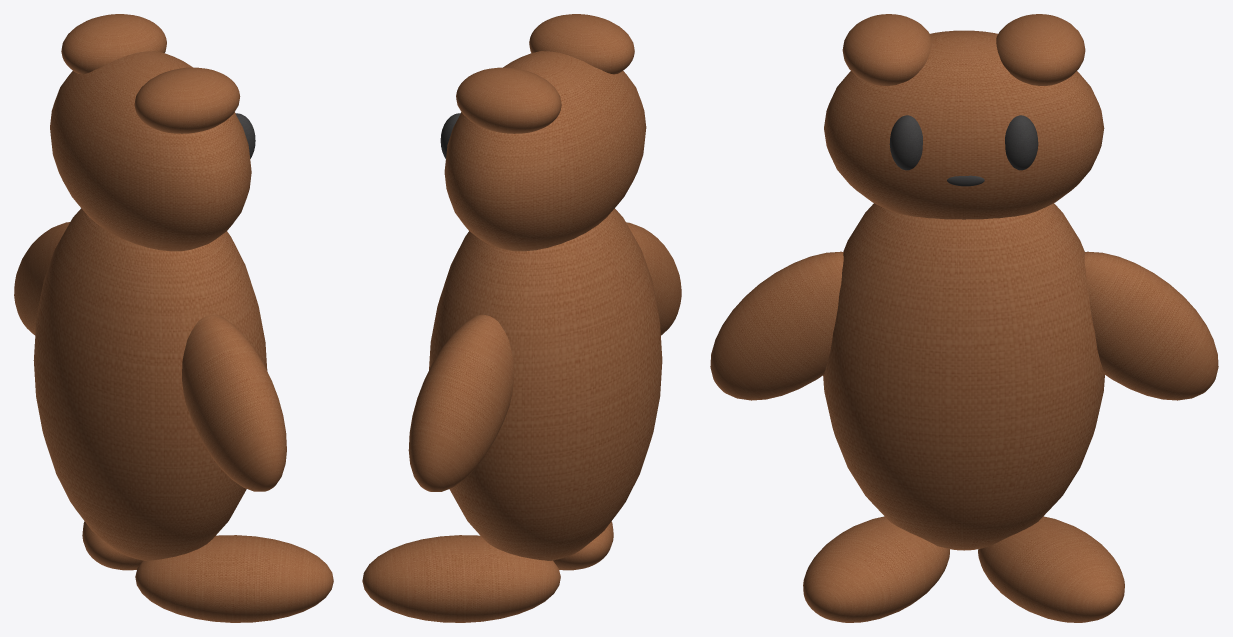
Rendered from teddy.fbx.
3 renders of one model, left to right at view 1: azimuth 30°, elevation 25°; view 2: azimuth 150°, elevation 25°; view 3: azimuth 270°, elevation 25°, orthographic. The views are drawn at different scales.
Visible parts, largest first — view 1: Sphere, Sphere.005, Sphere.004, Sphere.002, Sphere.007, Sphere.006, Sphere.001, Sphere.003; view 2: Sphere, Sphere.005, Sphere.003, Sphere.001, Sphere.006, Sphere.007, Sphere.002, Sphere.004; view 3: Sphere, Sphere.005, Sphere.001, Sphere.002, Sphere.004, Sphere.003, Sphere.007, Sphere.006, Sphere.008, Sphere.009.
Boxes of the visible parts, x1=… form: Sphere: x1=33, y1=208, x2=267, y2=560; Sphere.005: x1=50, y1=51, x2=251, y2=251; Sphere.004: x1=135, y1=535, x2=333, y2=622; Sphere.002: x1=182, y1=314, x2=286, y2=491; Sphere.007: x1=134, y1=67, x2=240, y2=133; Sphere.006: x1=61, y1=14, x2=166, y2=74; Sphere.001: x1=14, y1=222, x2=69, y2=335; Sphere.003: x1=82, y1=521, x2=142, y2=570; Sphere: x1=429, y1=208, x2=662, y2=560; Sphere.005: x1=444, y1=51, x2=646, y2=251; Sphere.003: x1=362, y1=535, x2=560, y2=622; Sphere.001: x1=408, y1=314, x2=513, y2=491; Sphere.006: x1=456, y1=67, x2=561, y2=133; Sphere.007: x1=529, y1=14, x2=634, y2=74; Sphere.002: x1=626, y1=222, x2=681, y2=335; Sphere.004: x1=553, y1=521, x2=613, y2=570; Sphere: x1=823, y1=203, x2=1104, y2=550; Sphere.005: x1=824, y1=30, x2=1104, y2=219; Sphere.001: x1=1084, y1=251, x2=1218, y2=400; Sphere.002: x1=710, y1=251, x2=843, y2=400; Sphere.004: x1=803, y1=516, x2=949, y2=622; Sphere.003: x1=978, y1=516, x2=1124, y2=622; Sphere.007: x1=842, y1=14, x2=931, y2=85; Sphere.006: x1=996, y1=14, x2=1085, y2=85; Sphere.008: x1=889, y1=115, x2=922, y2=170; Sphere.009: x1=1005, y1=115, x2=1038, y2=170.
Size of the model in its own units: 285 by 702 by 574.
